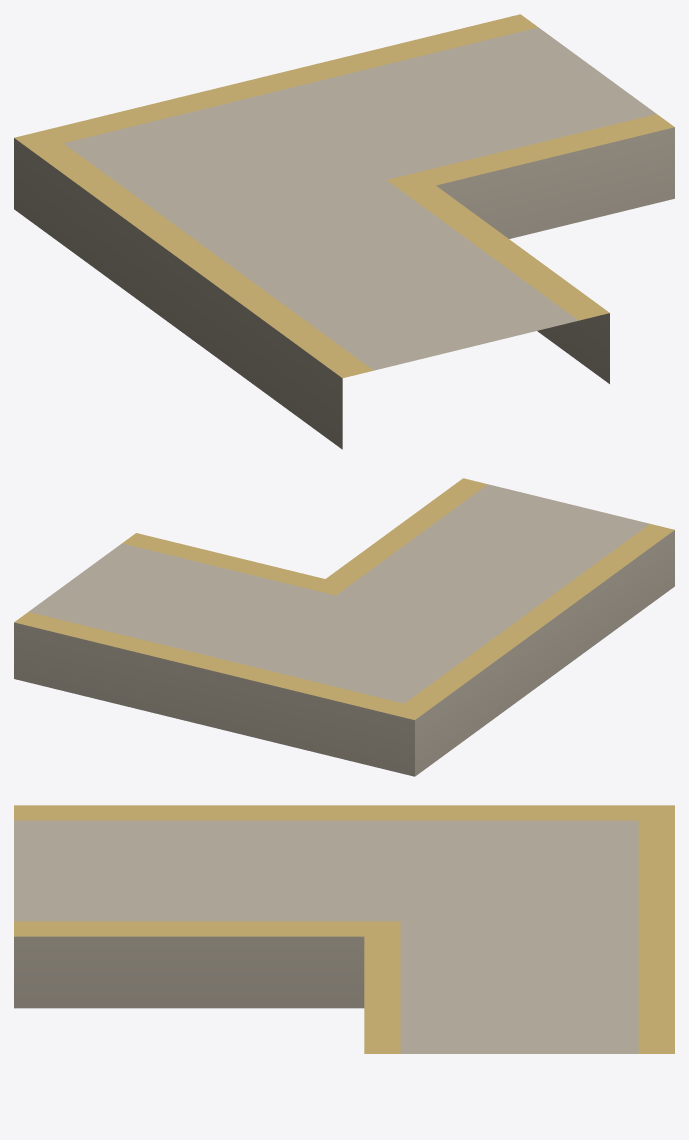
The model's file is road-corner.glb.
3 renders of one model, top to bottom at view 1: azimuth 30°, elevation 25°; view 2: azimuth 150°, elevation 25°; view 3: azimuth 270°, elevation 25°, orthographic. The views are drawn at different scales.
Parts seen in each view (by area): view 1: root_mesh; view 2: root_mesh; view 3: root_mesh.
Part boxes in pixels (<box>): root_mesh: <box>14,14,674,449</box>; root_mesh: <box>14,478,674,776</box>; root_mesh: <box>14,805,674,1053</box>.
Bounding box in the file's own units: 1.96 × 0.264 × 2.2.
